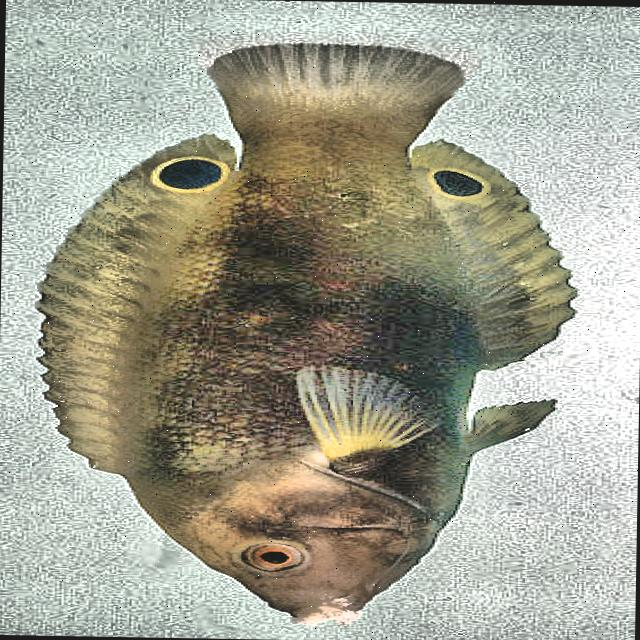fish: (26, 37, 587, 630)
